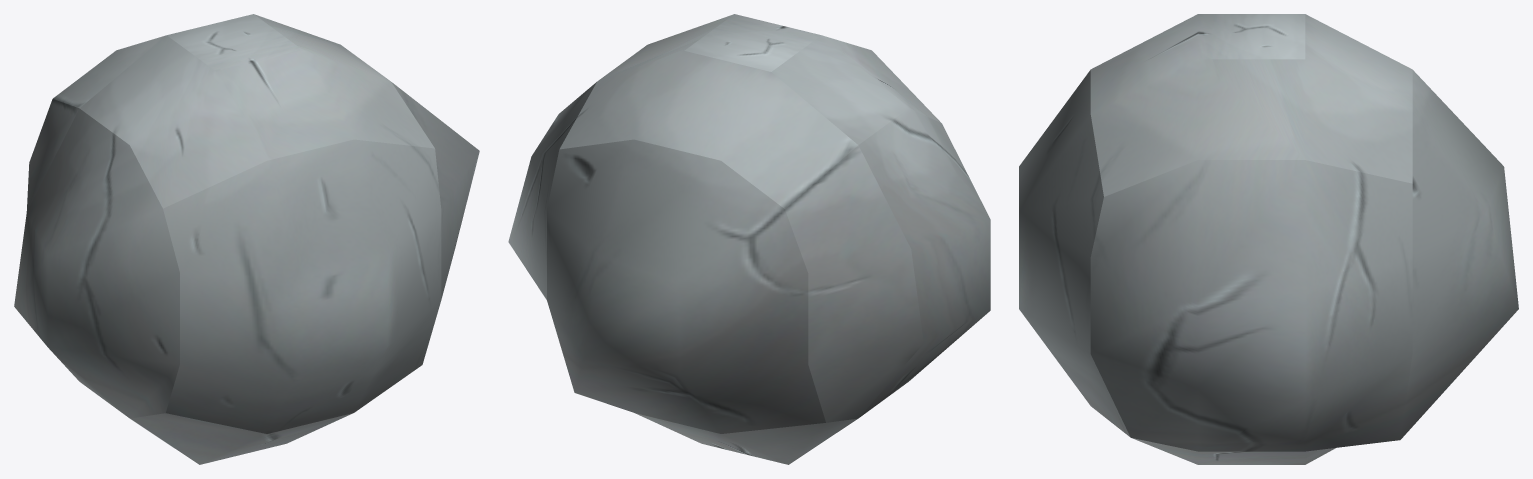
Rendered from steentje.obj.
3 renders of one model, left to right at view 1: azimuth 30°, elevation 25°; view 2: azimuth 150°, elevation 25°; view 3: azimuth 270°, elevation 25°, orthographic. The views are drawn at different scales.
Visible parts, largest first — view 1: steentje; view 2: steentje; view 3: steentje.
Part boxes in pixels (<box>): steentje: <box>14,14,479,464</box>; steentje: <box>508,14,990,464</box>; steentje: <box>1019,14,1518,464</box>.
Bounding box in the file's own units: 2.07 × 1.78 × 1.94.
Materials: 1 (1 with a texture image).
